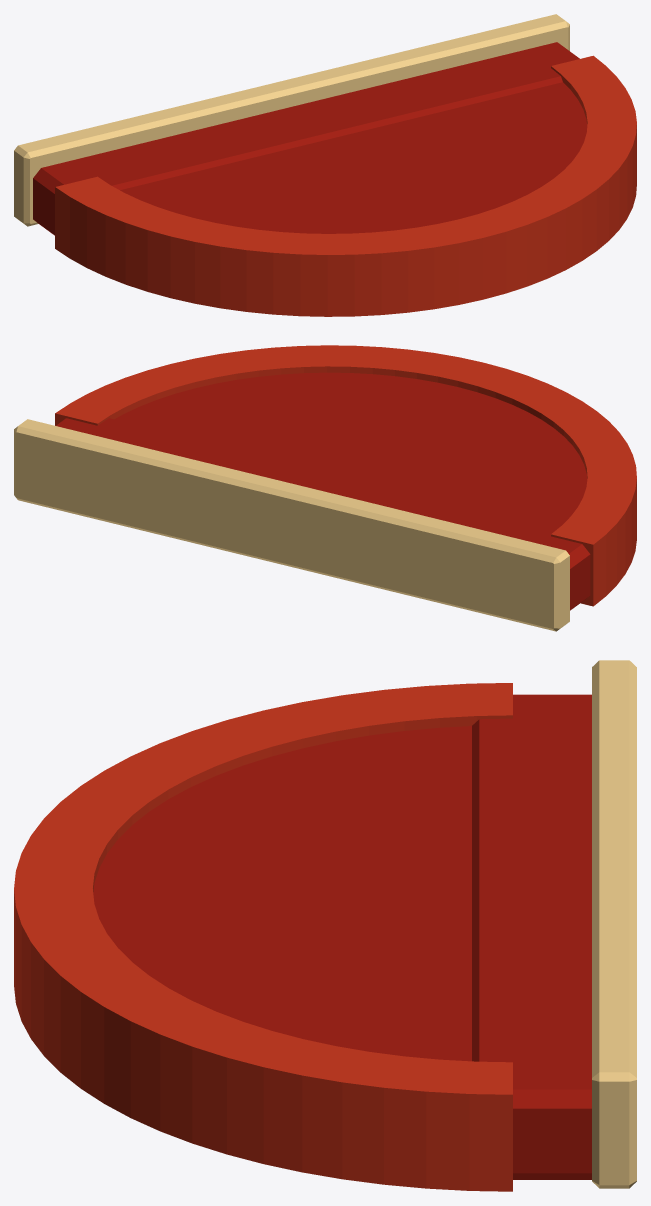
The model's file is HealingArch.obj.
3 renders of one model, top to bottom at view 1: azimuth 30°, elevation 25°; view 2: azimuth 150°, elevation 25°; view 3: azimuth 270°, elevation 25°, orthographic. The views are drawn at different scales.
Visible parts, largest first — view 1: HealingArch; view 2: HealingArch; view 3: HealingArch.
Boxes of the visible parts, left/top/right/bottom form: HealingArch: left=14, top=14, right=636, bottom=316; HealingArch: left=14, top=345, right=636, bottom=631; HealingArch: left=14, top=660, right=636, bottom=1191.
Bounding box in the file's own units: 270 × 36 × 170.
